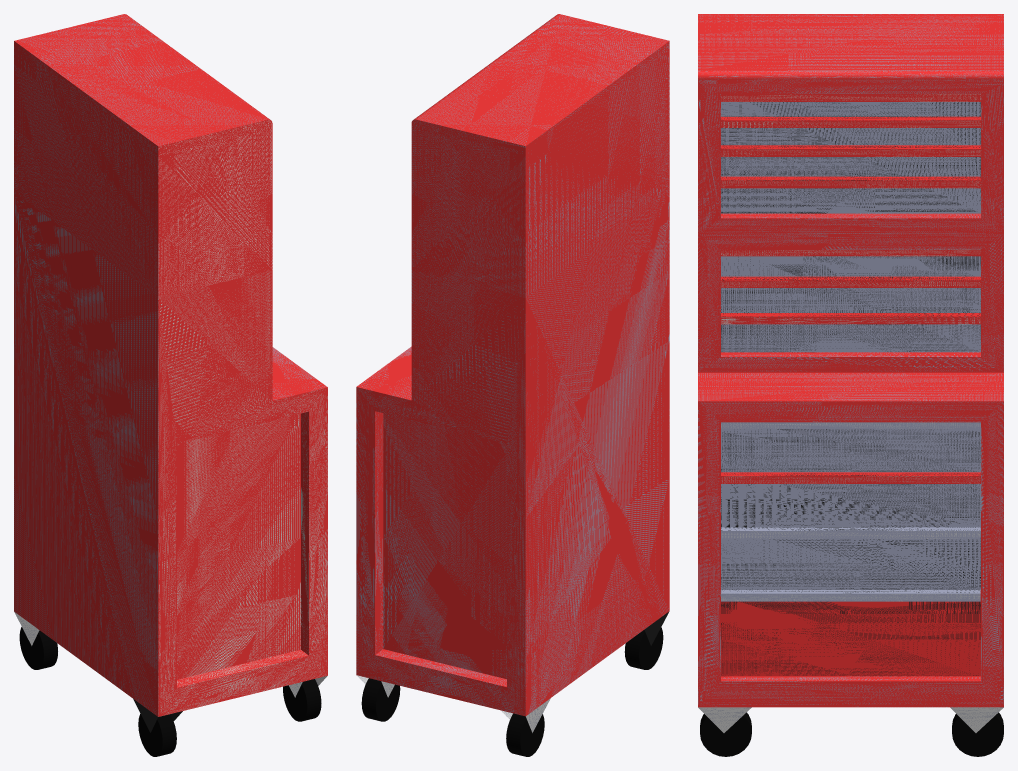
Rendered from ToolCabinet.fbx.
The picture shows the model from 3 angles, left to right: view 1: azimuth 30°, elevation 25°; view 2: azimuth 150°, elevation 25°; view 3: azimuth 270°, elevation 25°; orthographic projection. The views are drawn at different scales.
Parts seen in each view (by area): view 1: Tool_Box1, Group10, Group16, Group25; view 2: Tool_Box1, Group25, Group5, Group10; view 3: Tool_Box1, Group26, Group1, Group11, Group17, Group18, Group19, Group20, Group21, Group6, Group12, Group16 (+3 smaller).
Boxes of the visible parts, box(x1,y1,x2,y2) form: Tool_Box1: box(14, 14, 327, 716); Group10: box(138, 714, 176, 756); Group16: box(283, 679, 321, 721); Group25: box(19, 627, 57, 669); Tool_Box1: box(356, 14, 669, 716); Group25: box(506, 713, 544, 756); Group5: box(361, 678, 400, 721); Group10: box(624, 627, 663, 669); Tool_Box1: box(698, 14, 1003, 707); Group26: box(721, 176, 980, 188); Group1: box(721, 116, 980, 127); Group11: box(721, 527, 980, 538); Group17: box(721, 276, 980, 287); Group18: box(721, 472, 980, 483); Group19: box(721, 313, 980, 324); Group20: box(721, 145, 980, 156); Group21: box(721, 590, 980, 601); Group6: box(721, 249, 980, 256); Group12: box(721, 94, 980, 101); Group16: box(700, 712, 751, 756).
Bounding box in the file's own units: 0.4572 × 1.6 × 0.6731.
